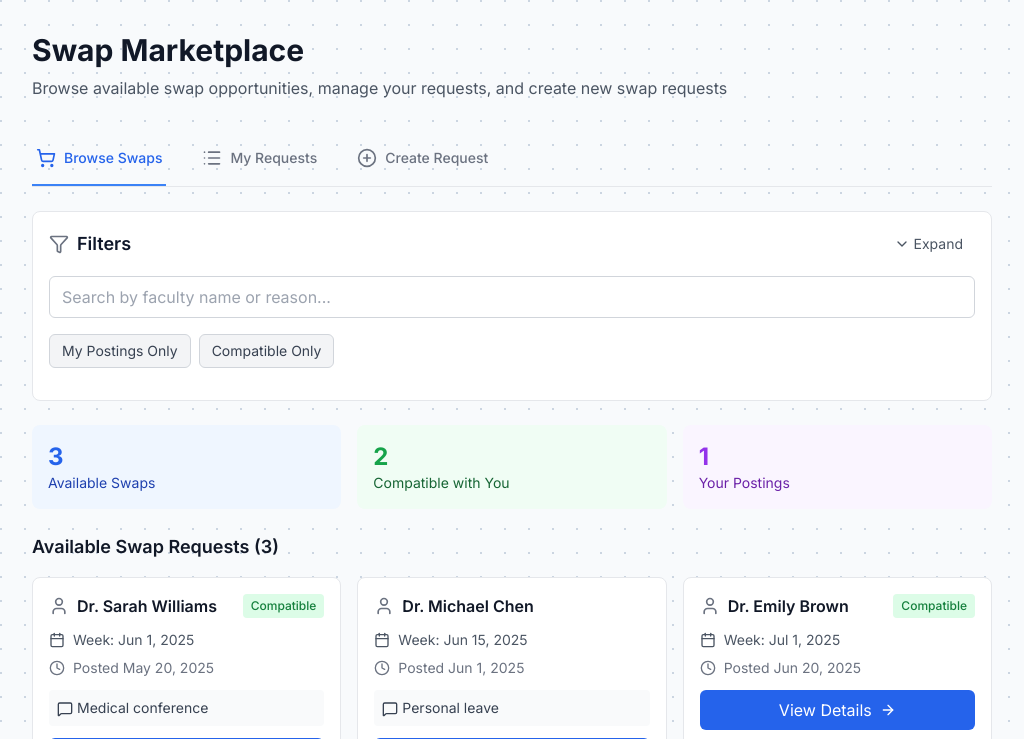
Test case: SwapMarketplace › Create Request Tab › should render SwapRequestForm when tab is clicked
Click the tab with aria-label "Create a new swap".
click(423, 159)  # box [353,132,492,186]
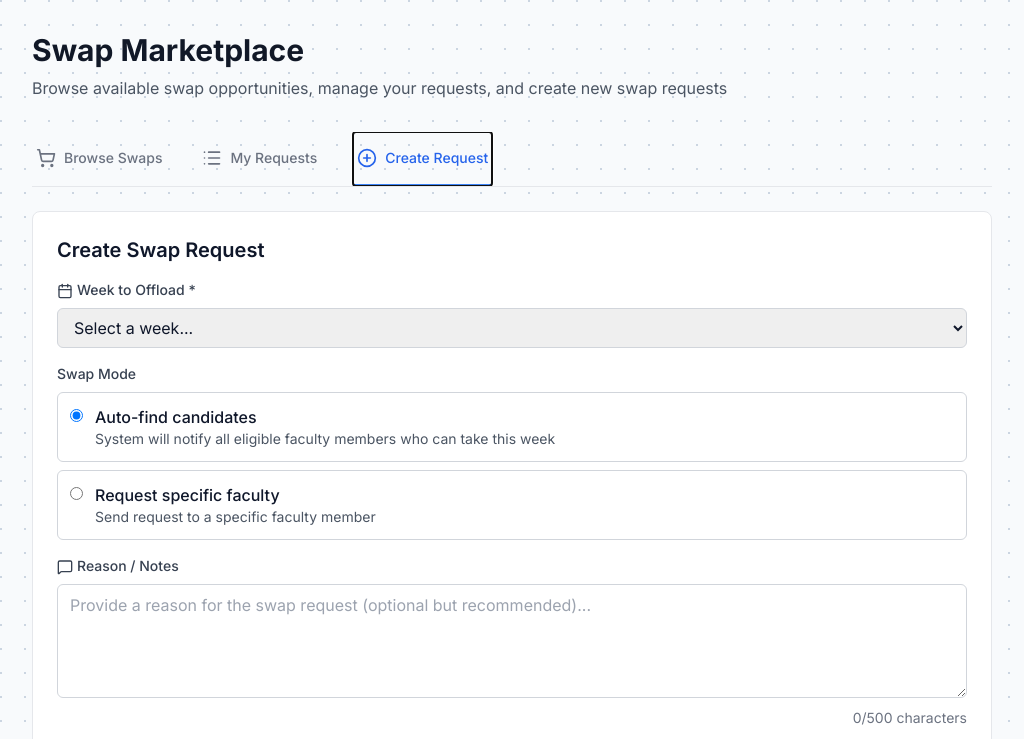
Result: the heading "Create Swap Request" is shown at [57,238,264,262]
Result: the dropdown is shown at [57,308,967,348]
